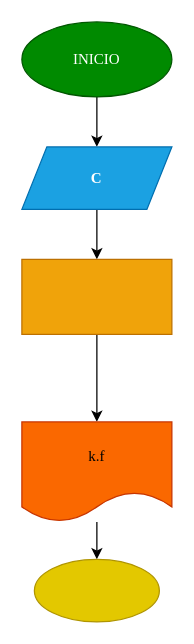
Image size: 194x644. Some labels were removed from this diagram. Each missing label, with the box of its shape:
fin: (33, 558, 159, 622)
k=c+273.15 f=c*1.8+32: (21, 258, 172, 334)
